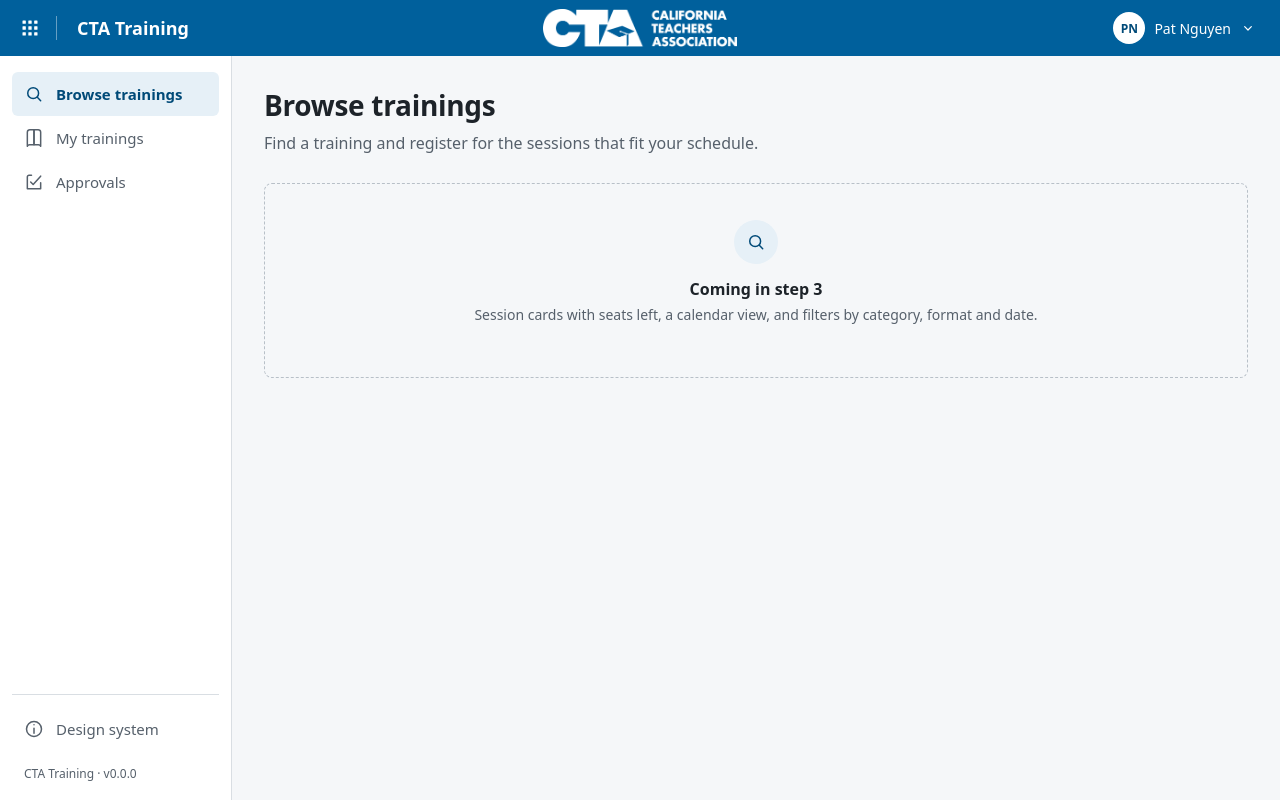
Test: AppShell › opens the app launcher and closes it with Escape
Click the button named "Open app launcher". click: (30, 28)
box: [12,10,48,46]
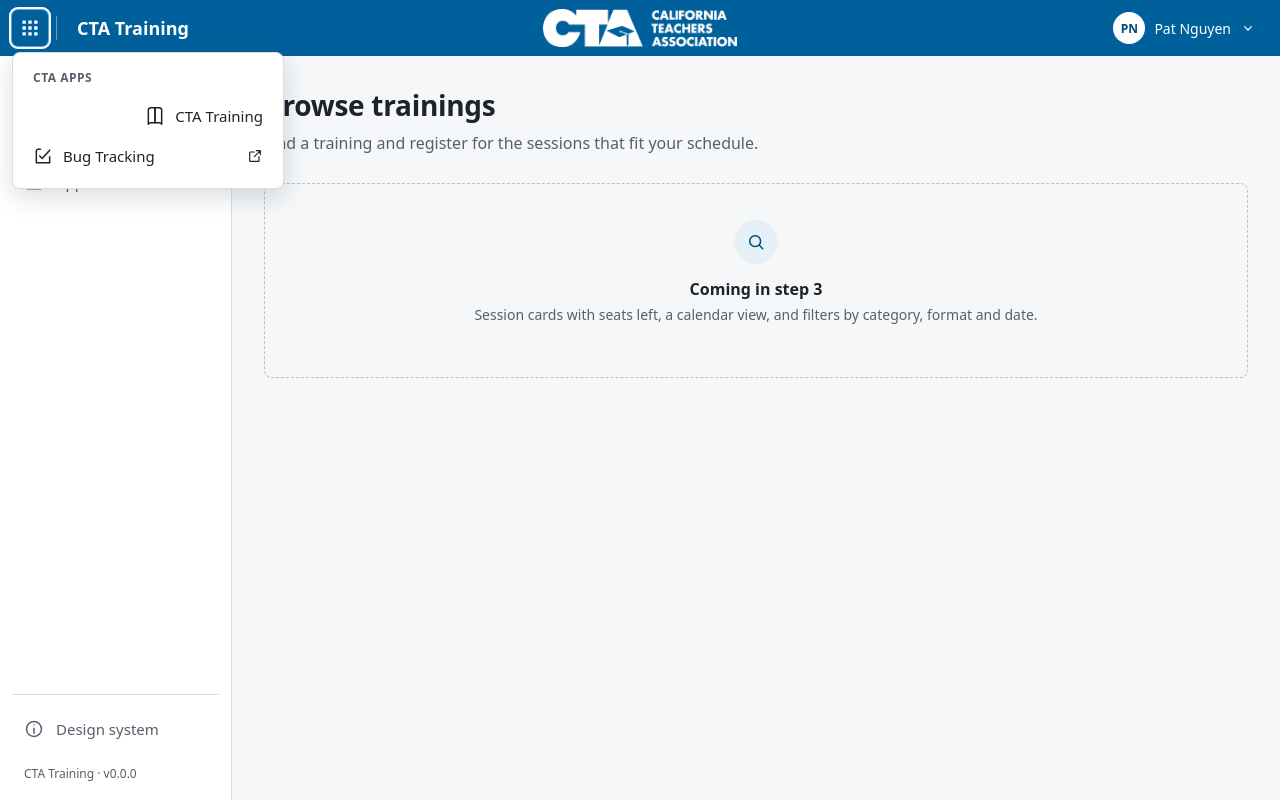
Now the text "CTA apps" is shown, box [33,69,92,86]
Press Escape
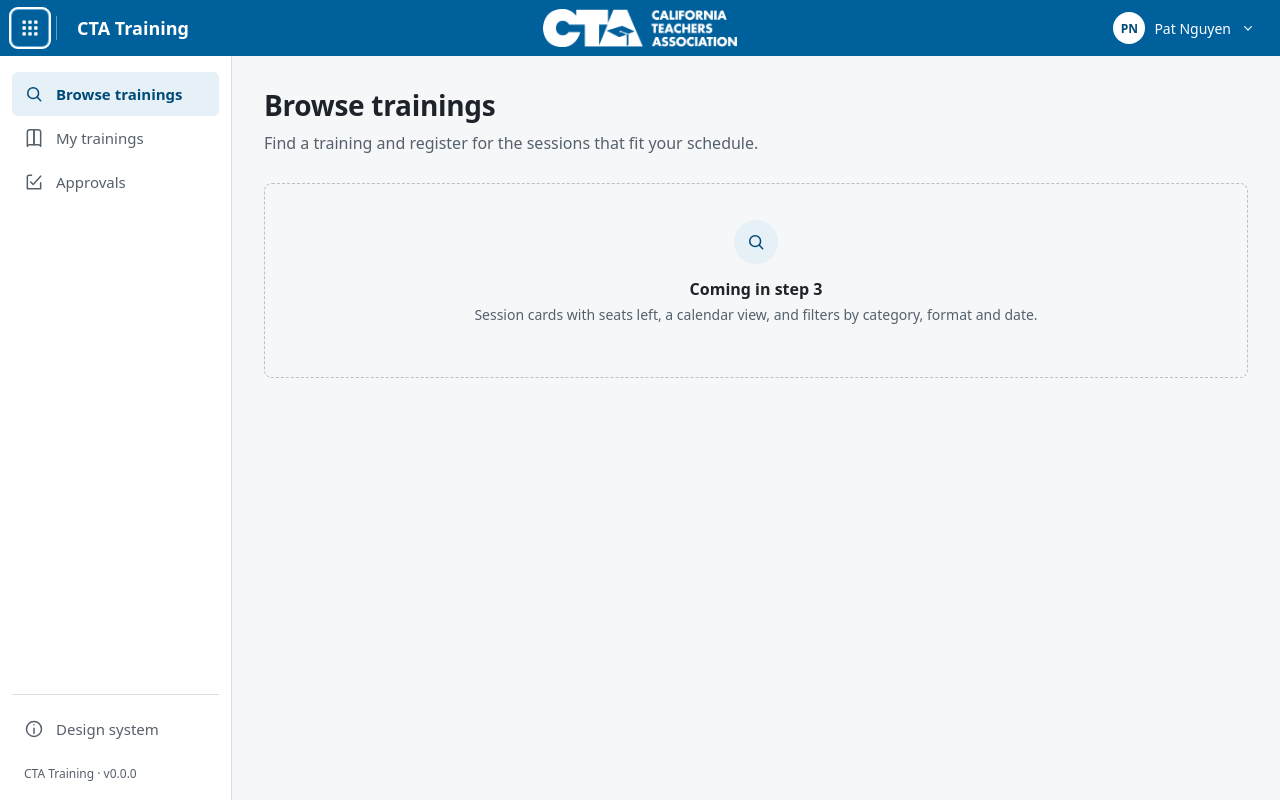
Now the text "CTA apps" is gone
